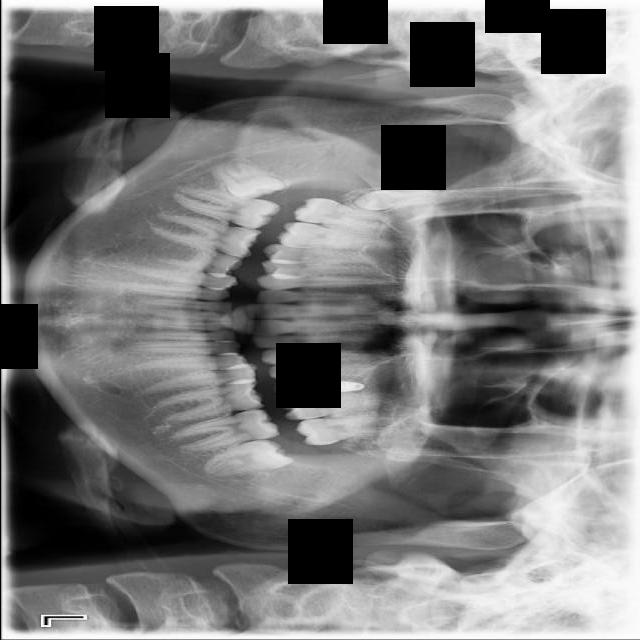3M ESPE Implant: (352, 190, 446, 211)
52: (273, 374, 313, 397)
73: (48, 554, 58, 556)
BioHorizons Implant: (294, 414, 406, 447)
Biomet 3i Implant: (201, 435, 294, 480)
Blue Sky Bio Implant: (167, 405, 280, 455)
Caries: (292, 194, 410, 237)
Implant: (170, 184, 281, 233)
Keystone Dental Implant: (208, 151, 286, 216)
